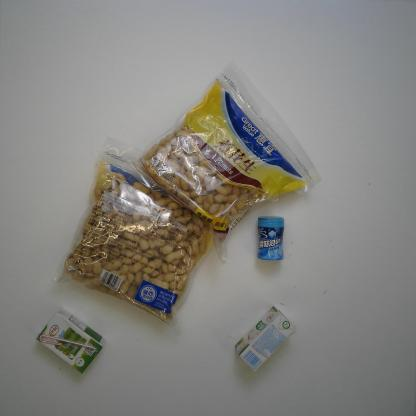Dried Food: (124, 59, 322, 262), (53, 137, 237, 331)
Gum: (252, 212, 287, 264)
Milk: (33, 304, 105, 376), (232, 301, 299, 375)
